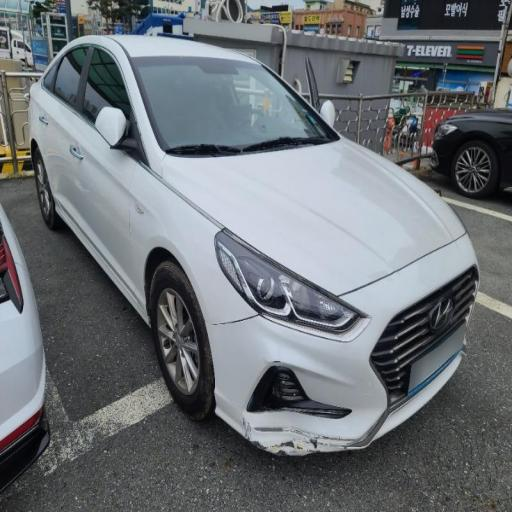broken: (211, 305, 366, 480)
